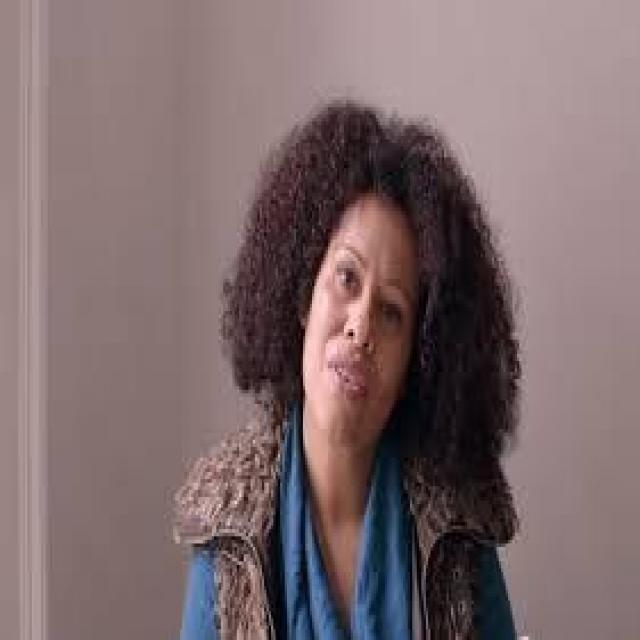person: (173, 108, 526, 636)
